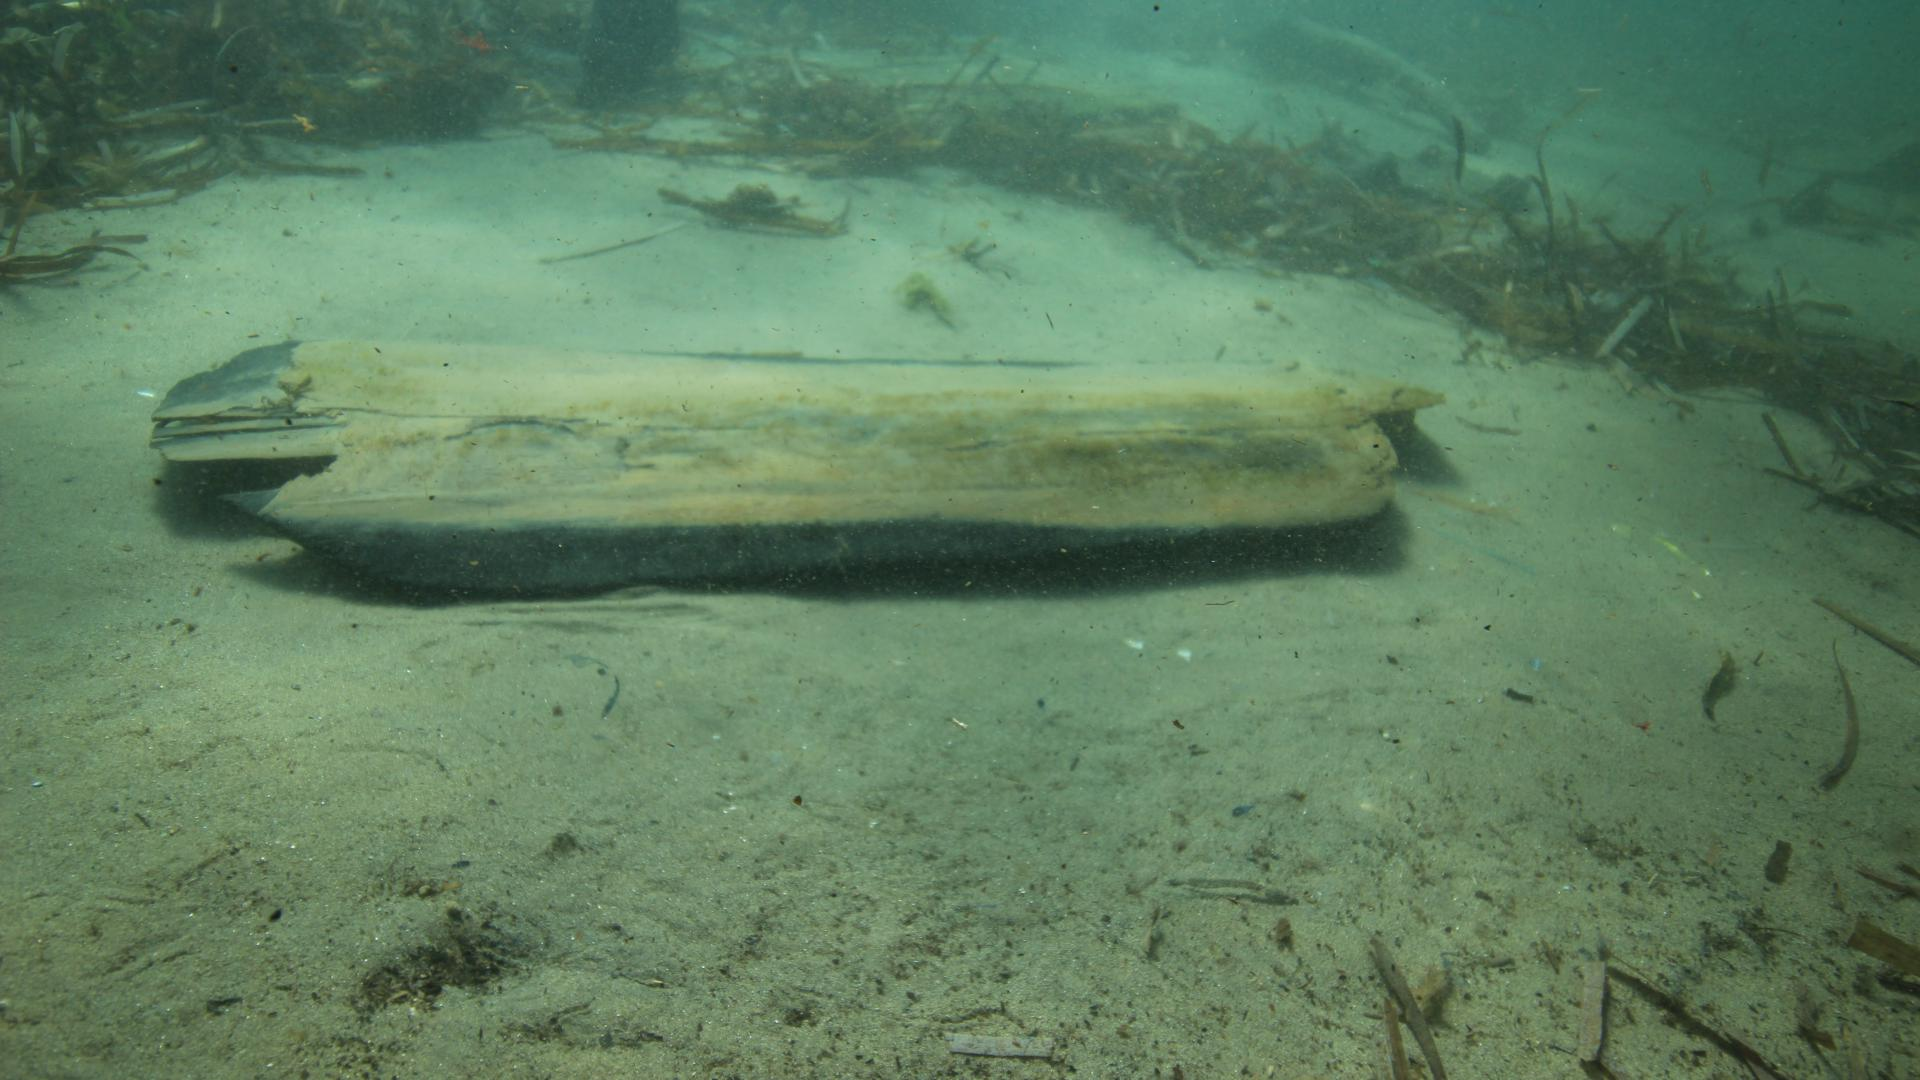wood: (150, 334, 1447, 584)
